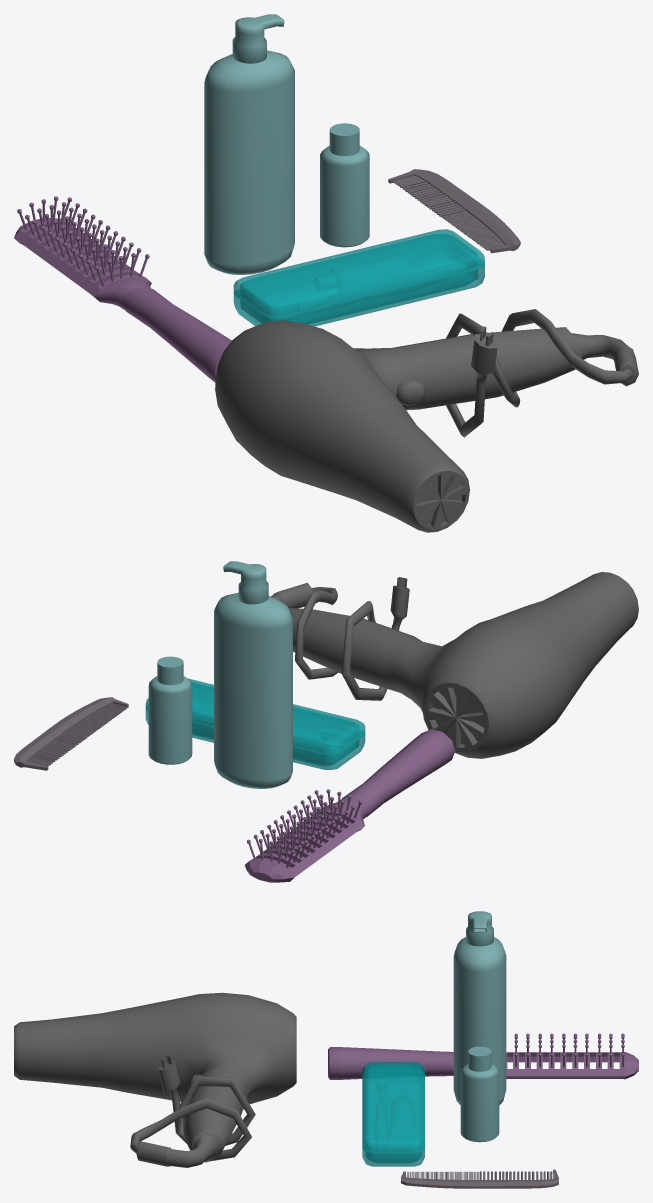
Rendered from Toiletries.fbx.
The picture shows the model from 3 angles, top to bottom: view 1: azimuth 30°, elevation 25°; view 2: azimuth 150°, elevation 25°; view 3: azimuth 270°, elevation 25°; orthographic projection. The views are drawn at different scales.
Visible parts, largest first — view 1: HairDryer, Large_Shampoo_Bottle, ToothBrush_Case, Hairbrush, Small_Shampoo_Bottle, Comb; view 2: HairDryer, Large_Shampoo_Bottle, Hairbrush, ToothBrush_Case, Small_Shampoo_Bottle, Comb; view 3: HairDryer, Large_Shampoo_Bottle, Hairbrush, ToothBrush_Case, Small_Shampoo_Bottle, Comb.
Boxes of the visible parts, box(x1,y1,x2,y2) form: HairDryer: box(215, 309, 638, 532); Large_Shampoo_Bottle: box(204, 14, 294, 274); ToothBrush_Case: box(233, 229, 484, 326); Hairbrush: box(14, 196, 231, 382); Small_Shampoo_Bottle: box(320, 123, 369, 247); Comb: box(388, 169, 520, 253); HairDryer: box(271, 572, 638, 758); Large_Shampoo_Bottle: box(214, 561, 292, 788); Hairbrush: box(244, 729, 455, 882); ToothBrush_Case: box(145, 678, 365, 769); Small_Shampoo_Bottle: box(148, 656, 192, 764); Comb: box(14, 697, 128, 770); HairDryer: box(14, 992, 296, 1167); Large_Shampoo_Bottle: box(453, 911, 506, 1105); Hairbrush: box(328, 1033, 638, 1079); ToothBrush_Case: box(362, 1062, 424, 1166); Small_Shampoo_Bottle: box(460, 1046, 499, 1142); Comb: box(401, 1169, 558, 1188).
Size of the model in its own units: 10.72 by 7.45 by 18.34.
